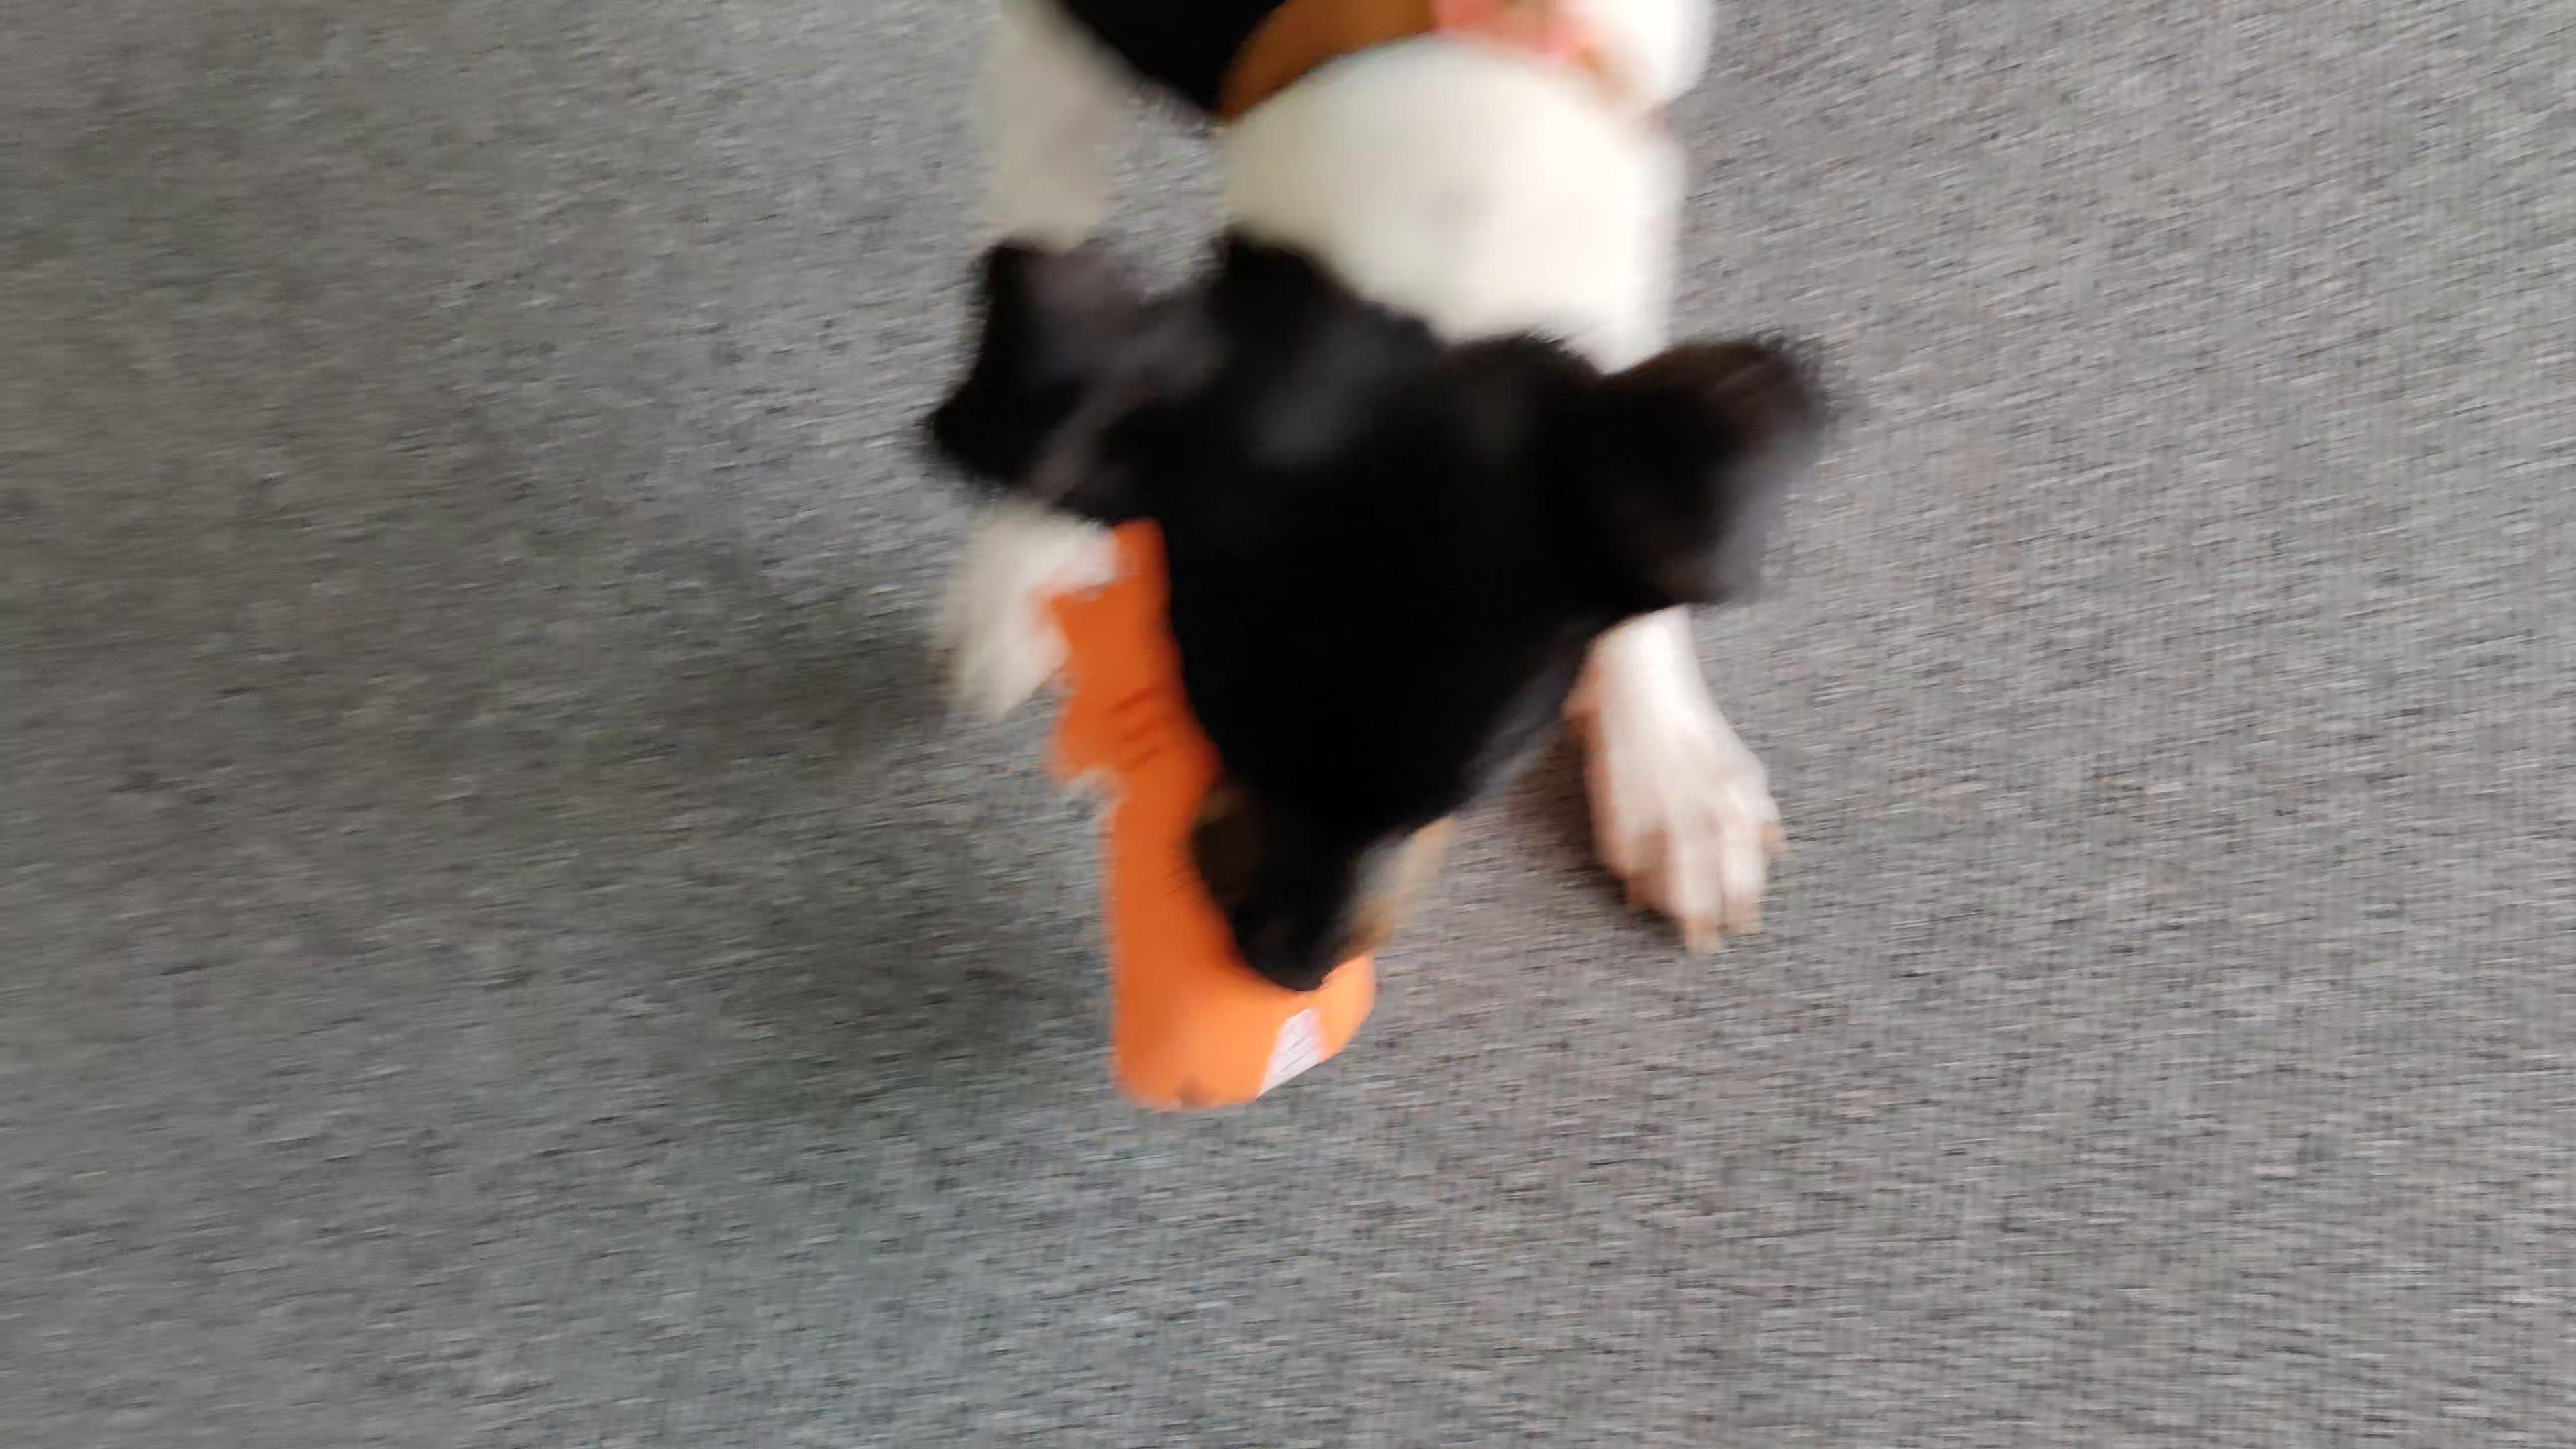Dog: (885, 0, 1849, 1007)
